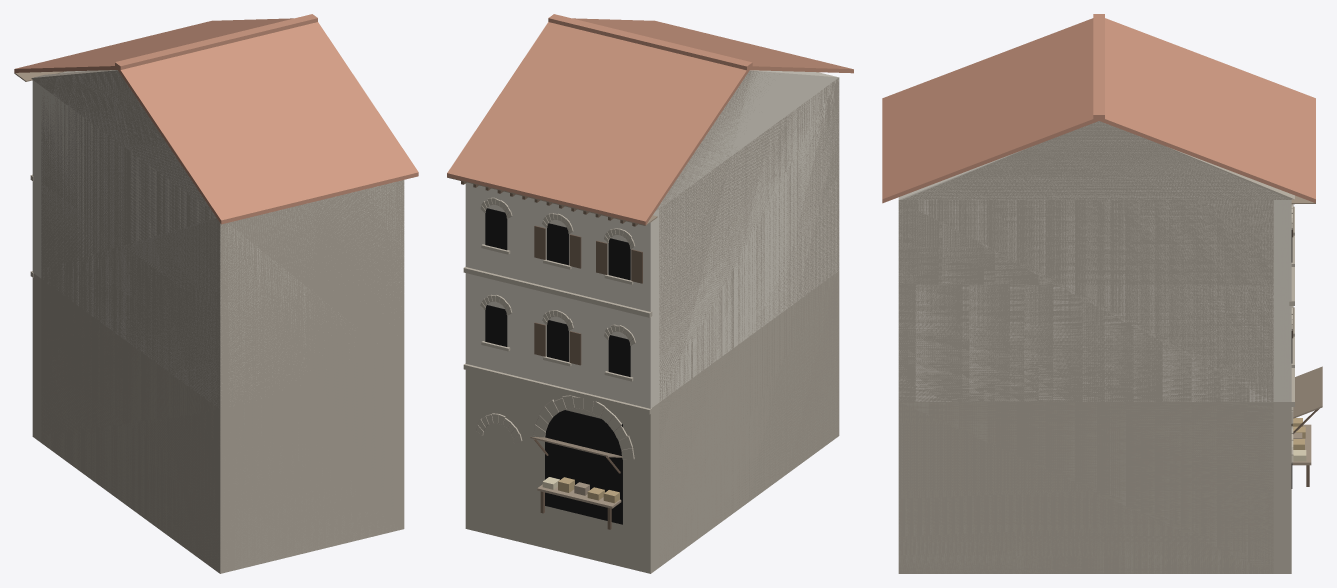
The model's file is casa-68-2-intonaco.glb.
3 views of the same model, side by side, from view 1: azimuth 30°, elevation 25°; view 2: azimuth 150°, elevation 25°; view 3: azimuth 270°, elevation 25° (orthographic). The views are drawn at different scales.
Parts seen in each view (by area): view 1: vicino, lontano; view 2: vicino, lontano, aperta; view 3: vicino, lontano, aperta.
Part boxes in pixels (x1,y1,x2,y2): vicino: (14,14,418,573); lontano: (14,66,418,571); vicino: (447,14,853,573); lontano: (448,67,852,573); aperta: (530,436,622,529); vicino: (882,14,1315,573); lontano: (883,119,1315,573); aperta: (1292,366,1322,486).
Bounding box in the file's own units: 7.3 × 15.58 × 13.45.
